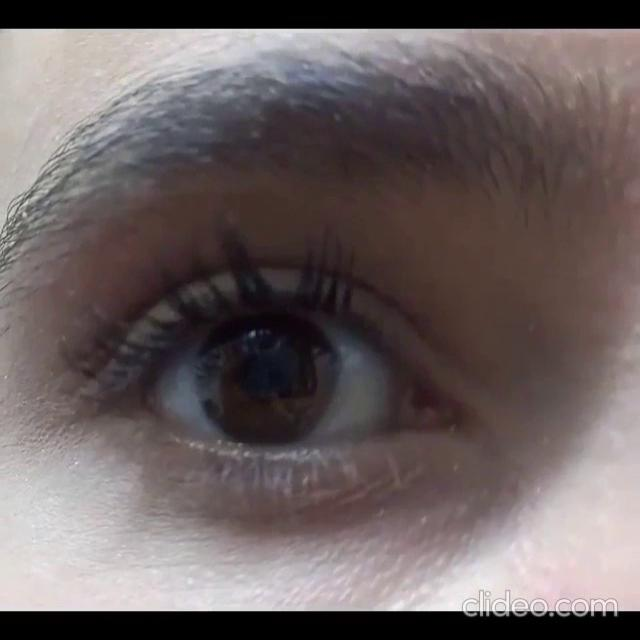iris: (195, 314, 338, 444)
pupille: (240, 350, 296, 395)
